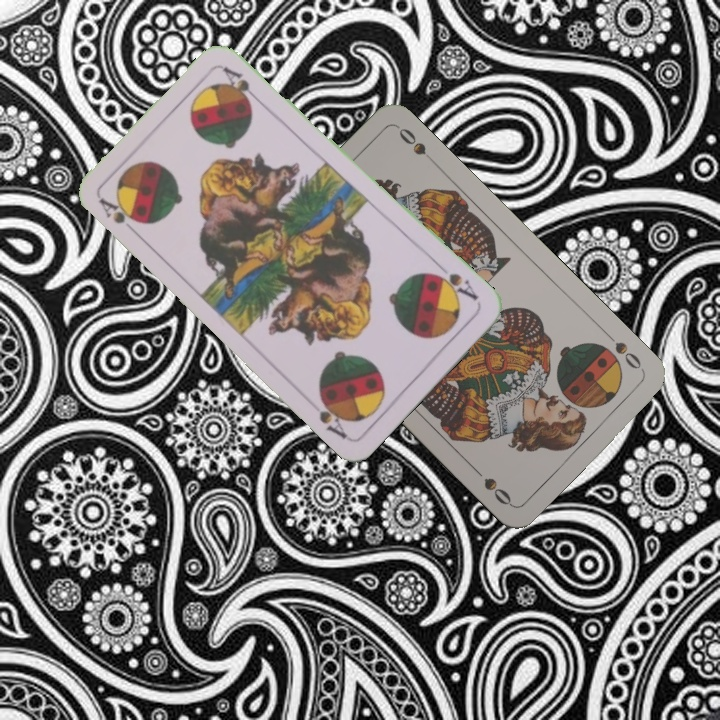SA: (95, 194, 144, 240), (428, 268, 481, 303)
SO: (600, 327, 646, 374)
